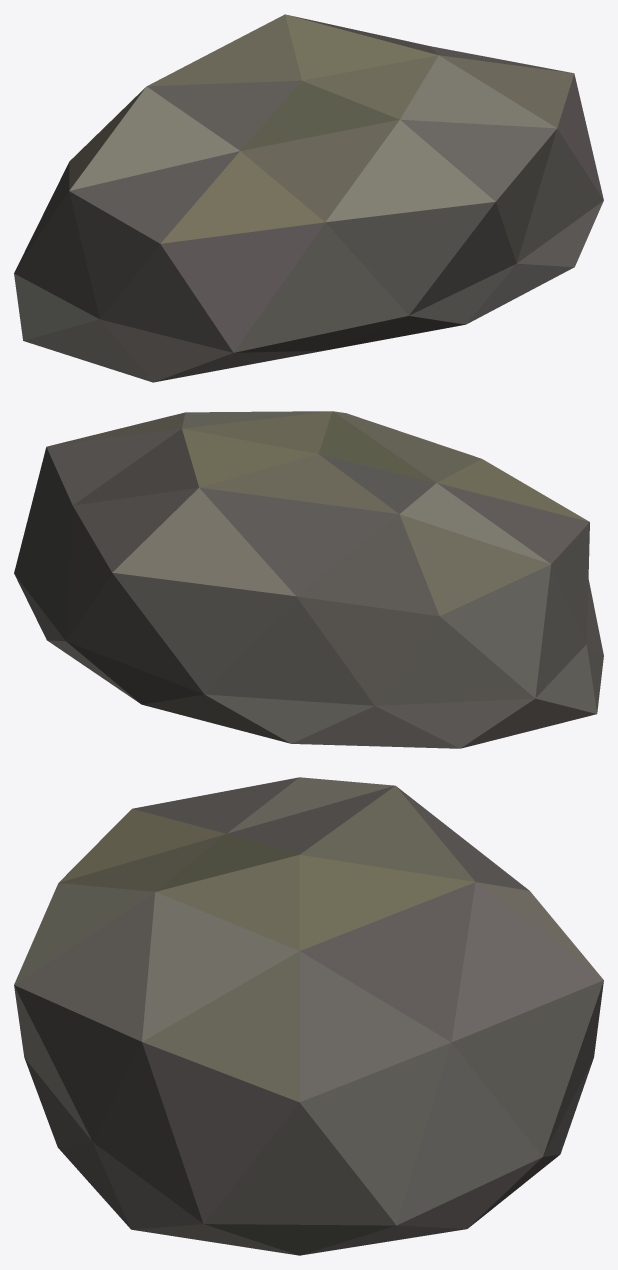
The model's file is env_boulder_a.glb.
3 views of the same model, one above another, from view 1: azimuth 30°, elevation 25°; view 2: azimuth 150°, elevation 25°; view 3: azimuth 270°, elevation 25° (orthographic). The views are drawn at different scales.
Parts seen in each view (by area): view 1: env_boulder_a; view 2: env_boulder_a; view 3: env_boulder_a.
Part boxes in pixels (x1,y1,x2,y2): env_boulder_a: (14, 14, 603, 382); env_boulder_a: (14, 411, 603, 748); env_boulder_a: (14, 777, 603, 1255).
Bounding box in the file's own units: 3.22 × 1.33 × 2.32.
